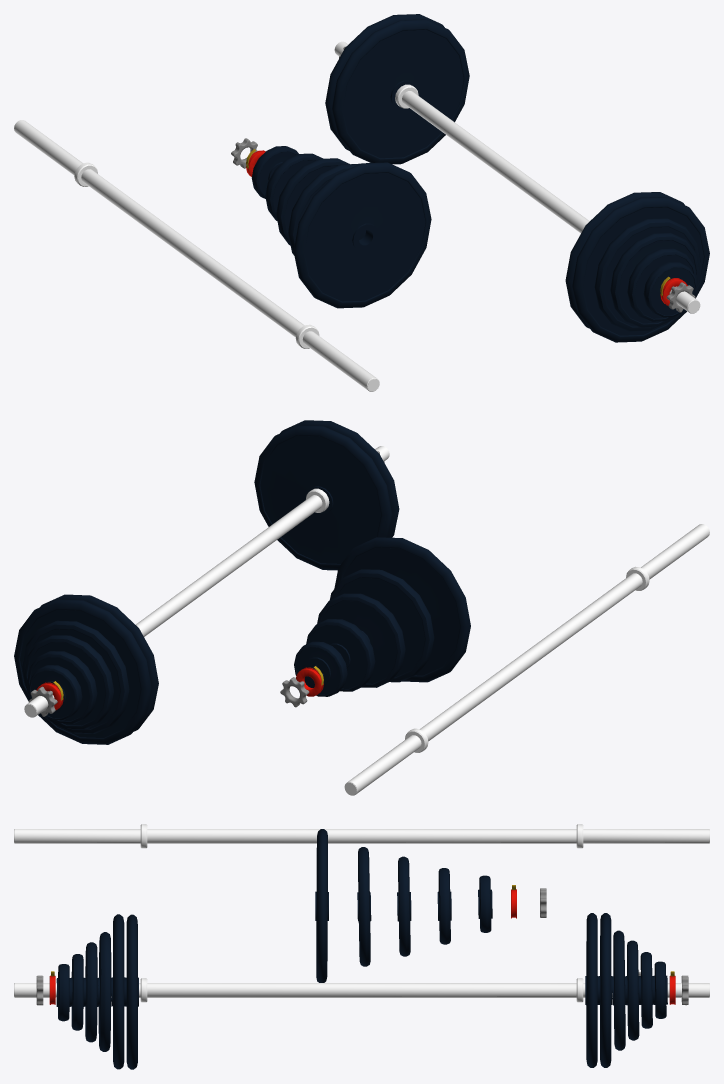
3 renders of one model, top to bottom at view 1: azimuth 30°, elevation 25°; view 2: azimuth 150°, elevation 25°; view 3: azimuth 270°, elevation 25°, orthographic.
Visible parts, largest first — view 1: 20 kg_18, Cylinder.4_10, bar_0, Cylinder.6_12, Cylinder.5_11, Cylinder.9_15, Cylinder.10_5, Cylinder.12_7, 8kg_21, Cylinder.8_14, Cylinder.11_6, Cylinder.7_13 (+3 smaller); view 2: Cylinder.7_13, 20 kg_18, bar_0, Cylinder.11_6, 10 kg_17, Cylinder.5_11, 8kg_21, Cylinder.3_9, Cylinder.2_8, 5kg_20, 2kg_19, Cylinder.1_4 (+3 smaller); view 3: bar_0, Cylinder.5_11, Cylinder.6_12, Cylinder.7_13, Cylinder.11_6, Cylinder.4_10, 20 kg_18, Cylinder.9_15, Cylinder.3_9, 10 kg_17, Cylinder.10_5, 8kg_21 (+7 smaller).
Part boxes in pixels (x1=…): 20 kg_18: x1=293, y1=162, x2=431, y2=308; Cylinder.4_10: x1=332, y1=19, x2=469, y2=164; bar_0: x1=14, y1=120, x2=379, y2=391; Cylinder.6_12: x1=572, y1=197, x2=709, y2=342; Cylinder.5_11: x1=334, y1=41, x2=700, y2=313; Cylinder.9_15: x1=594, y1=218, x2=700, y2=331; Cylinder.10_5: x1=610, y1=232, x2=699, y2=327; Cylinder.12_7: x1=627, y1=248, x2=696, y2=321; 8kg_21: x1=276, y1=158, x2=349, y2=245; Cylinder.8_14: x1=643, y1=262, x2=696, y2=317; Cylinder.11_6: x1=325, y1=14, x2=444, y2=150; Cylinder.7_13: x1=565, y1=192, x2=684, y2=328; Cylinder.7_13: x1=254, y1=425, x2=391, y2=570; 20 kg_18: x1=334, y1=537, x2=470, y2=682; bar_0: x1=344, y1=524, x2=709, y2=795; Cylinder.11_6: x1=14, y1=599, x2=151, y2=744; 10 kg_17: x1=330, y1=569, x2=434, y2=682; Cylinder.5_11: x1=24, y1=446, x2=389, y2=717; 8kg_21: x1=317, y1=593, x2=405, y2=687; Cylinder.3_9: x1=22, y1=620, x2=129, y2=733; Cylinder.2_8: x1=24, y1=635, x2=113, y2=729; 5kg_20: x1=306, y1=619, x2=375, y2=691; 2kg_19: x1=294, y1=641, x2=347, y2=696; Cylinder.1_4: x1=27, y1=651, x2=97, y2=723; bar_0: x1=14, y1=824, x2=709, y2=848; Cylinder.5_11: x1=14, y1=978, x2=709, y2=1002; Cylinder.6_12: x1=111, y1=914, x2=125, y2=1069; Cylinder.7_13: x1=125, y1=914, x2=138, y2=1069; Cylinder.11_6: x1=599, y1=913, x2=612, y2=1067; Cylinder.4_10: x1=585, y1=913, x2=598, y2=1067; 20 kg_18: x1=315, y1=829, x2=328, y2=982; Cylinder.9_15: x1=98, y1=932, x2=111, y2=1051; Cylinder.3_9: x1=612, y1=930, x2=626, y2=1050; 10 kg_17: x1=357, y1=847, x2=371, y2=966; Cylinder.10_5: x1=84, y1=942, x2=98, y2=1042; 8kg_21: x1=397, y1=856, x2=411, y2=956.
Size of the model in its own units: 7.87 by 2.72 by 12.05.
